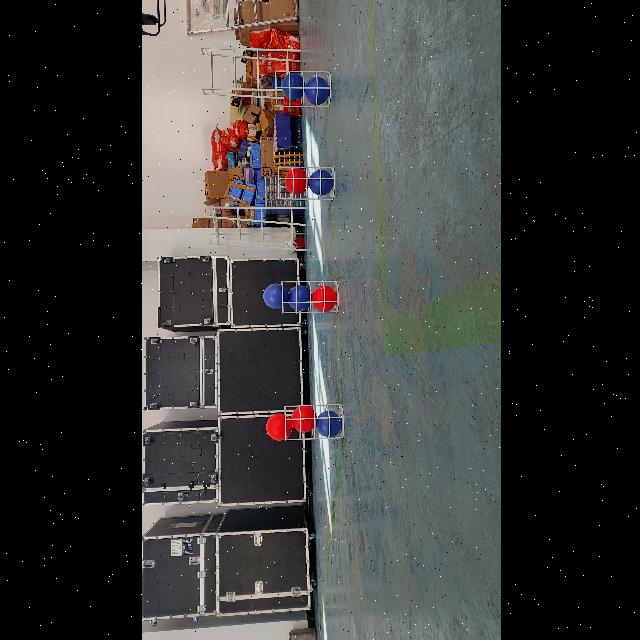B: (304, 74, 328, 106), (306, 169, 332, 195), (315, 411, 341, 437), (286, 284, 310, 312), (280, 74, 304, 100), (262, 283, 286, 309)
R: (264, 413, 292, 441), (290, 404, 316, 432), (309, 286, 336, 310), (282, 168, 306, 194)
S: (280, 397, 348, 445), (276, 276, 342, 318), (272, 161, 338, 203), (270, 65, 332, 109)
